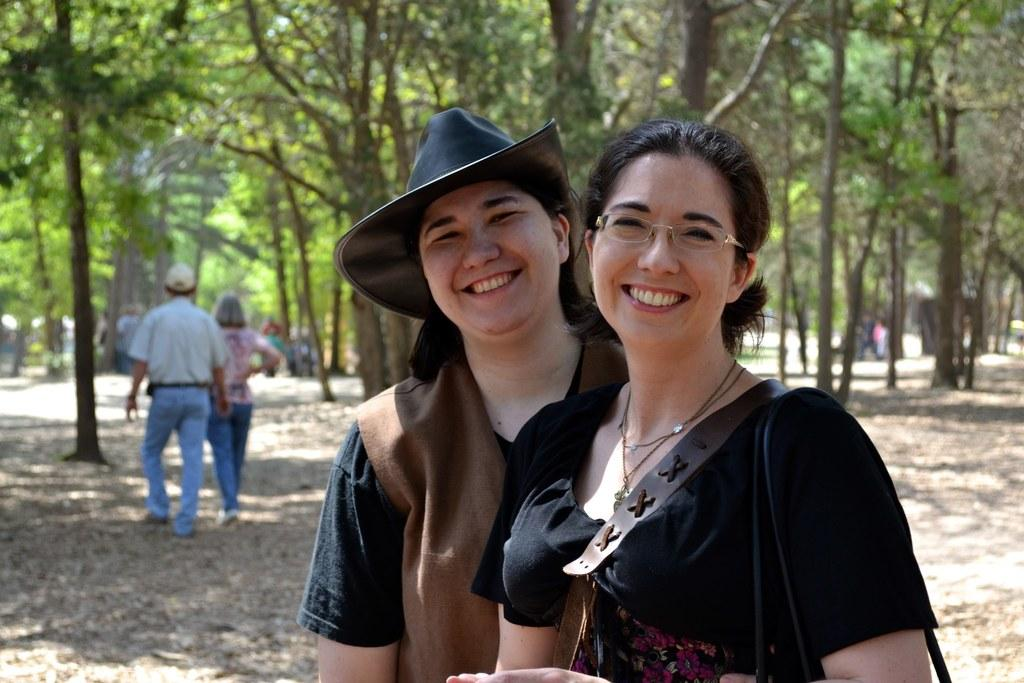Hat: (330, 108, 574, 325), (164, 262, 198, 288)
